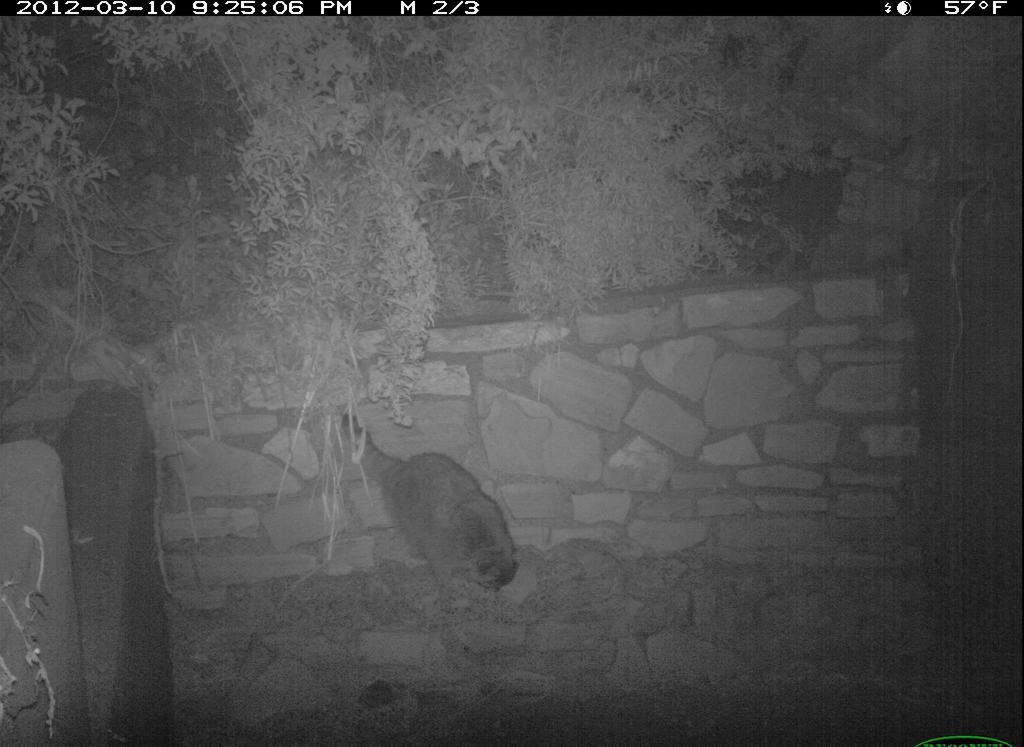raccoon: (337, 402, 536, 609)
